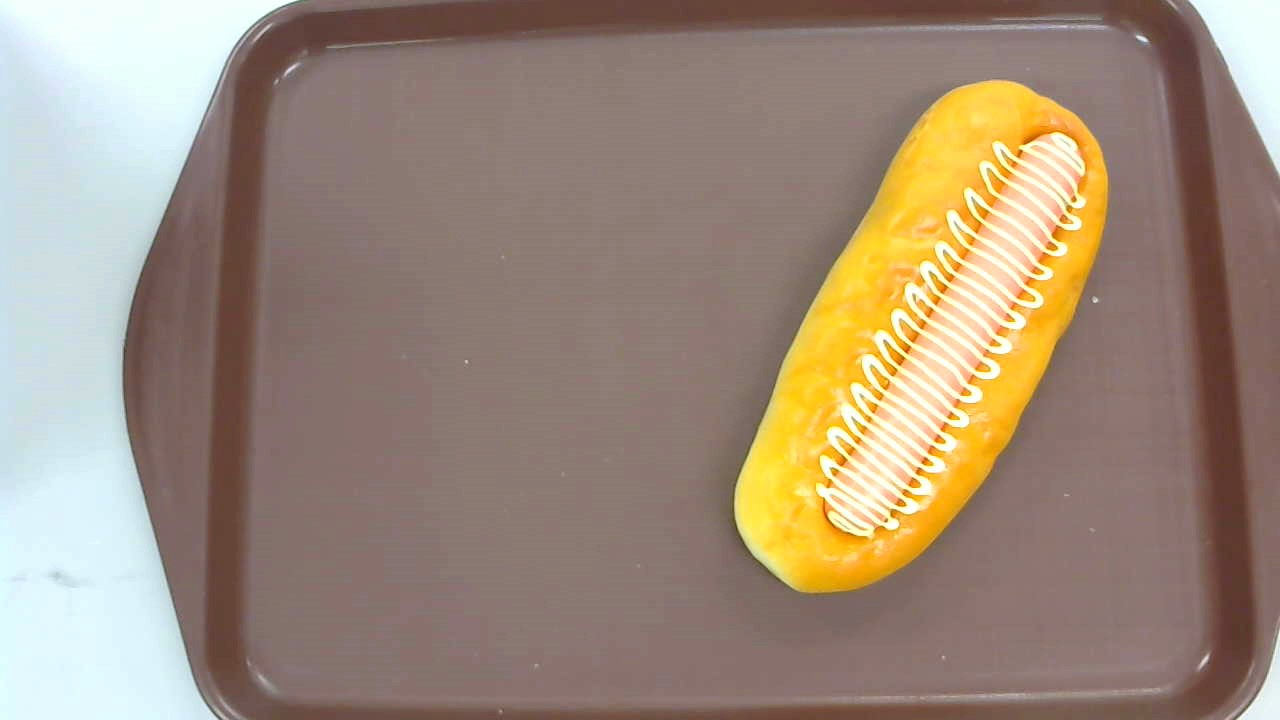hot dog: (733, 78, 1108, 591)
